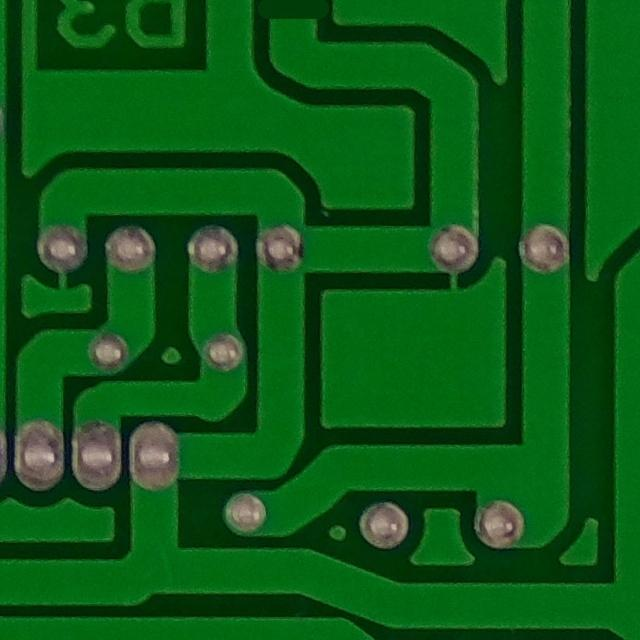open_circuit: (255, 0, 330, 42)
